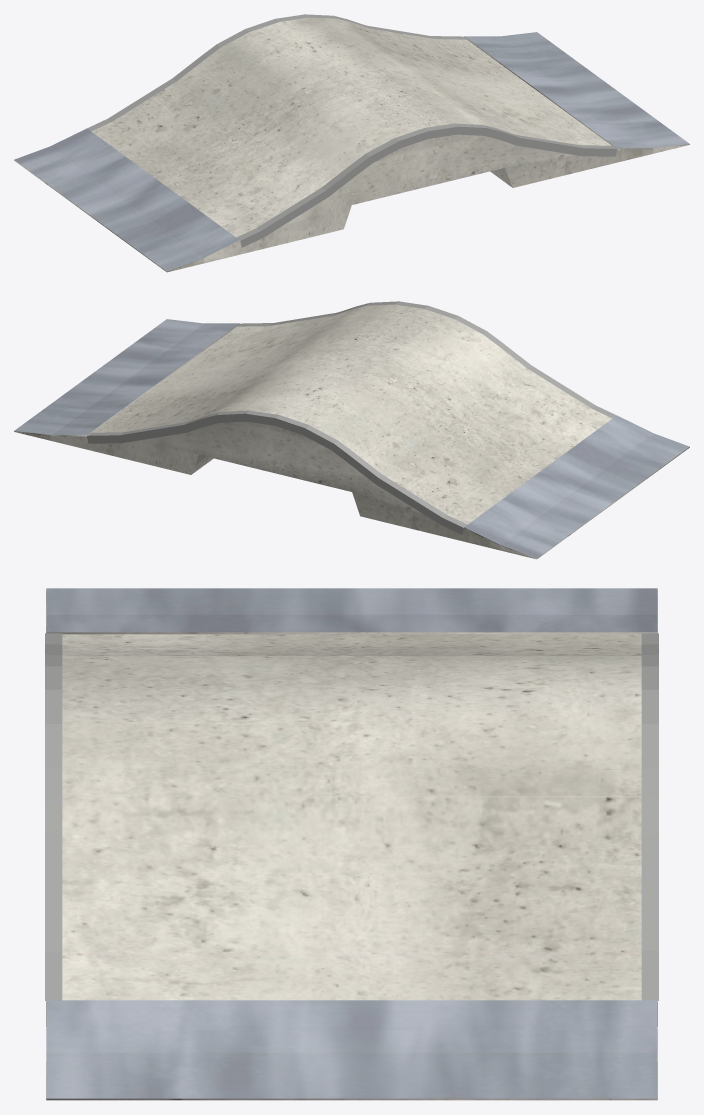
Rendered from wave-welle.gltf.
The picture shows the model from 3 angles, top to bottom: view 1: azimuth 30°, elevation 25°; view 2: azimuth 150°, elevation 25°; view 3: azimuth 270°, elevation 25°; orthographic projection. The views are drawn at different scales.
Visible parts, largest first — view 1: SK0014_Wave-Welle.001; view 2: SK0014_Wave-Welle.001; view 3: SK0014_Wave-Welle.001.
Part boxes in pixels (bbox=[...]): SK0014_Wave-Welle.001: bbox=[14, 14, 689, 272]; SK0014_Wave-Welle.001: bbox=[14, 301, 689, 559]; SK0014_Wave-Welle.001: bbox=[45, 588, 658, 1100].
Size of the model in its own units: 2.46 by 0.35 by 1.25.
Materials: 3 (3 with a texture image).
